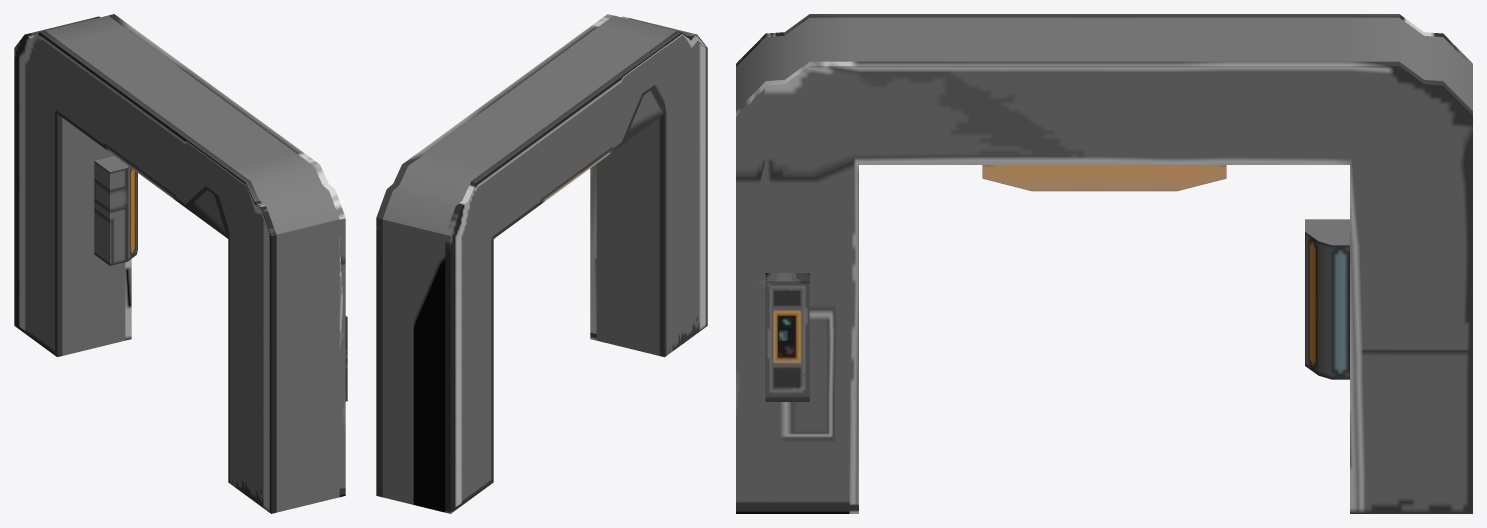
The model's file is Door_Big.fbx.
The picture shows the model from 3 angles, left to right: view 1: azimuth 30°, elevation 25°; view 2: azimuth 150°, elevation 25°; view 3: azimuth 270°, elevation 25°; orthographic projection. The views are drawn at different scales.
Visible parts, largest first — view 1: Door_Big; view 2: Door_Big; view 3: Door_Big.
Boxes of the visible parts, x1,y1,x2,y2 form: Door_Big: [14, 14, 347, 513]; Door_Big: [376, 14, 707, 513]; Door_Big: [736, 14, 1472, 513].
Size of the model in its own units: 1.17 by 4.01 by 5.98.
Materials: 1 (1 with a texture image).
